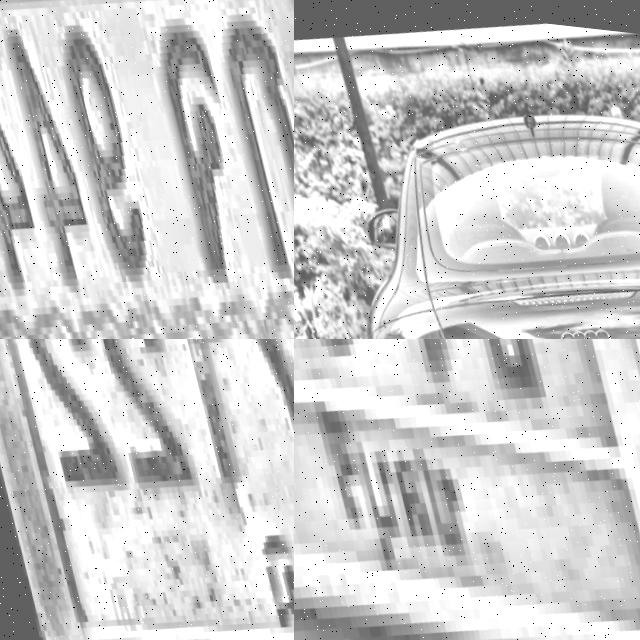license-plate: (294, 339, 640, 640), (0, 0, 294, 339), (0, 339, 294, 640)
